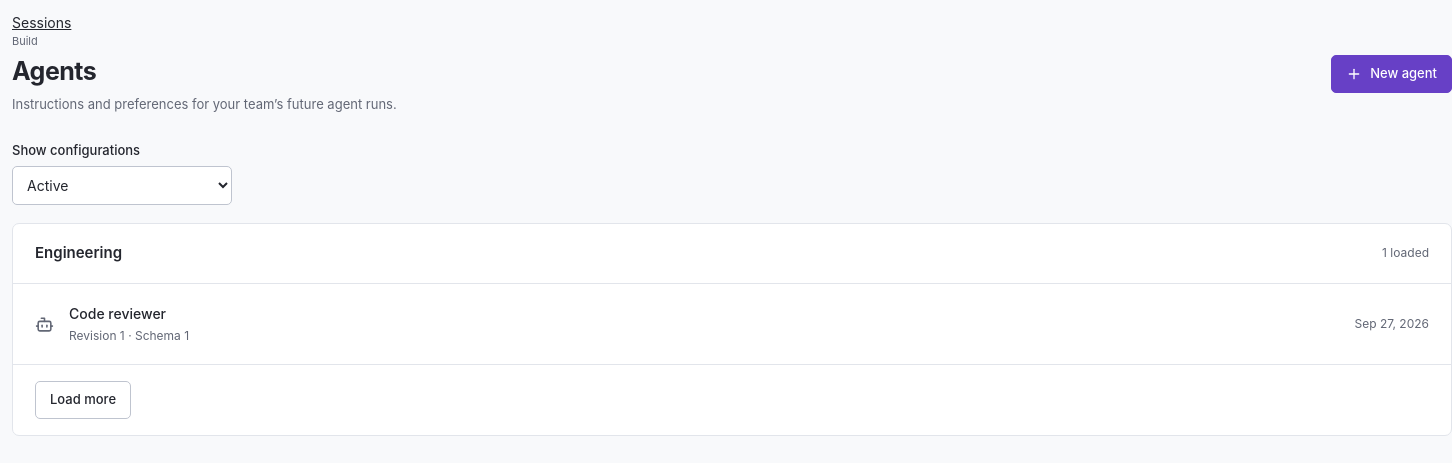
Test: agent catalog form and recovery › lists summaries and loads the next cursor without dropping earlier rows
The image size is (1452, 463).
Click the button "Load more": [83, 400] box x1=35 y1=380 x2=131 y2=418
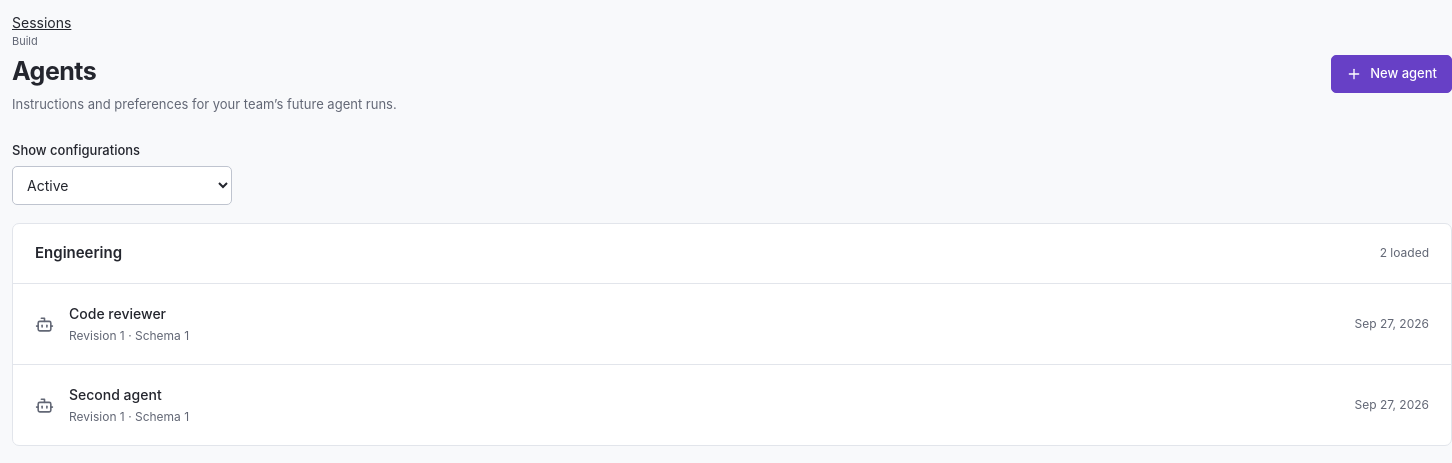
Expected: the link "Code reviewer Revision 1 · Schema 1 Sep 27, 2026" is shown, x1=35 y1=304 x2=1429 y2=342
Expected: the text "2 loaded" is shown, x1=1380 y1=244 x2=1429 y2=262
Expected: the text "Load more" is gone
